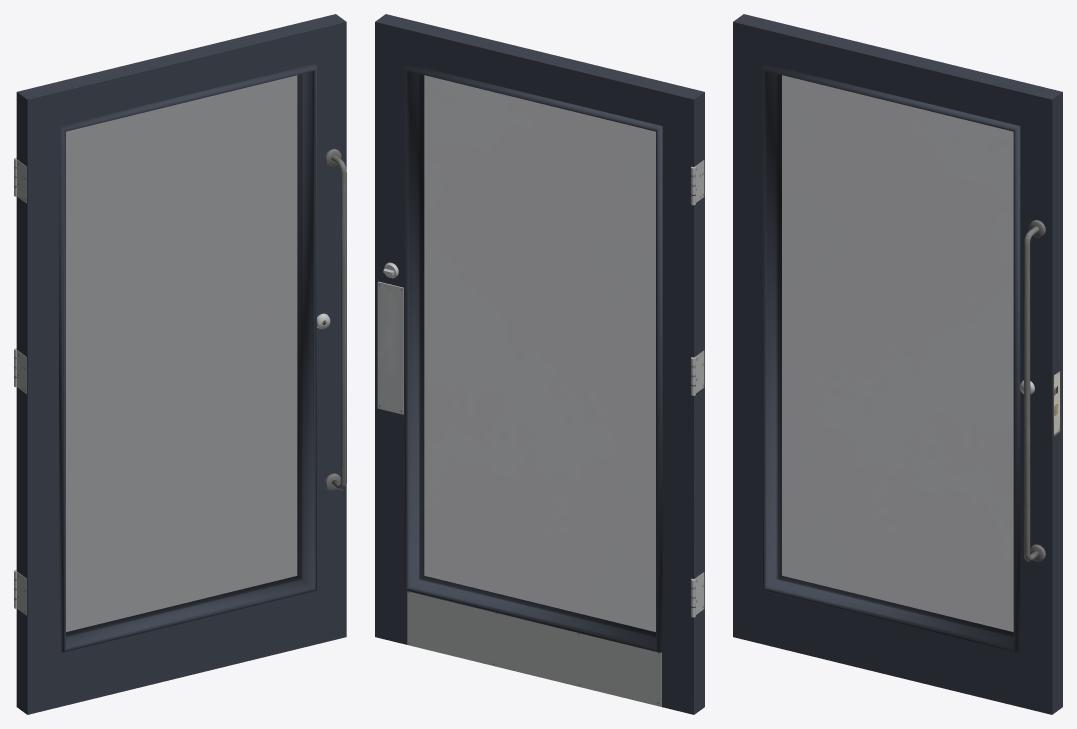
Rendered from SM_Front_Door_01.glb.
3 views of the same model, side by side, from view 1: azimuth 30°, elevation 25°; view 2: azimuth 150°, elevation 25°; view 3: azimuth 330°, elevation 25° (orthographic).
Parts seen in each view (by area): view 1: SM_Front_Door_01; view 2: SM_Front_Door_01; view 3: SM_Front_Door_01.
Boxes of the visible parts, x1,y1,x2,y2 form: SM_Front_Door_01: (14, 14, 346, 714); SM_Front_Door_01: (375, 14, 704, 714); SM_Front_Door_01: (733, 14, 1062, 714).
Size of the model in its own units: 1.31 by 2.39 by 0.1905.
Materials: 2 (2 with a texture image).
